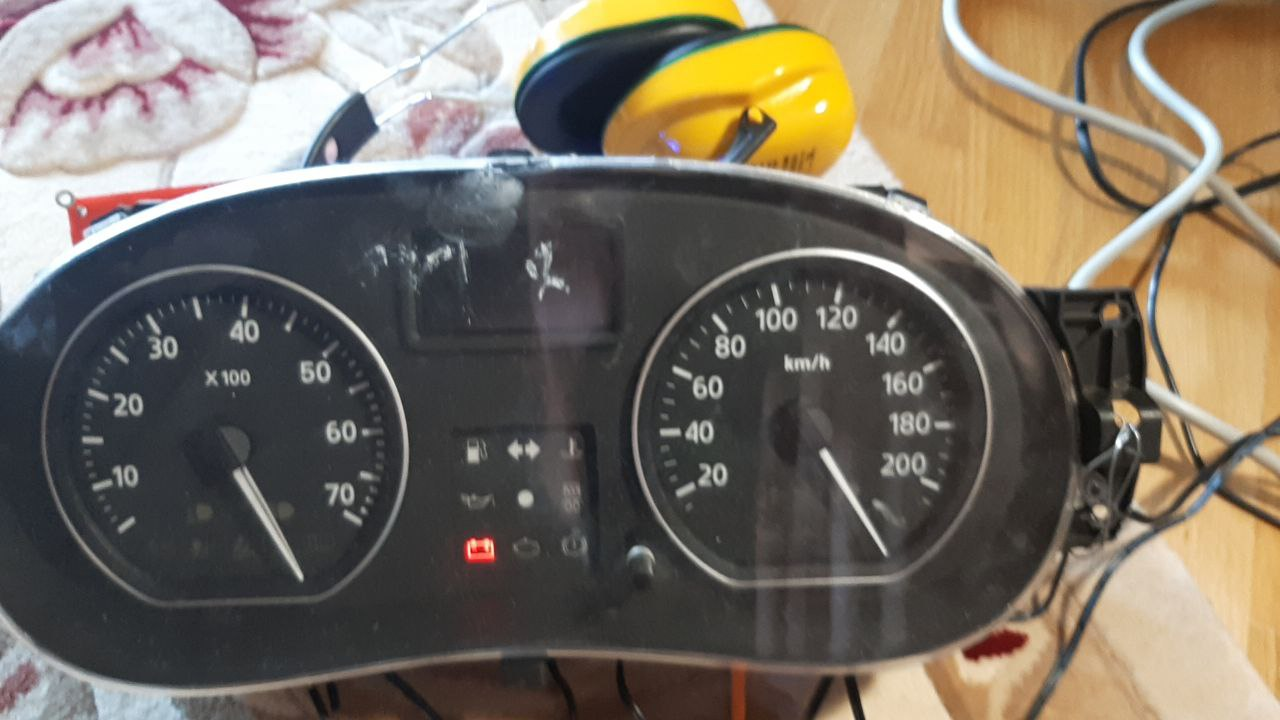accumulator: (455, 537, 500, 562)
